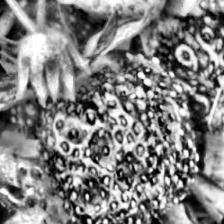Anthracnose Fruit Rot: (62, 53, 185, 213), (0, 160, 76, 224)
